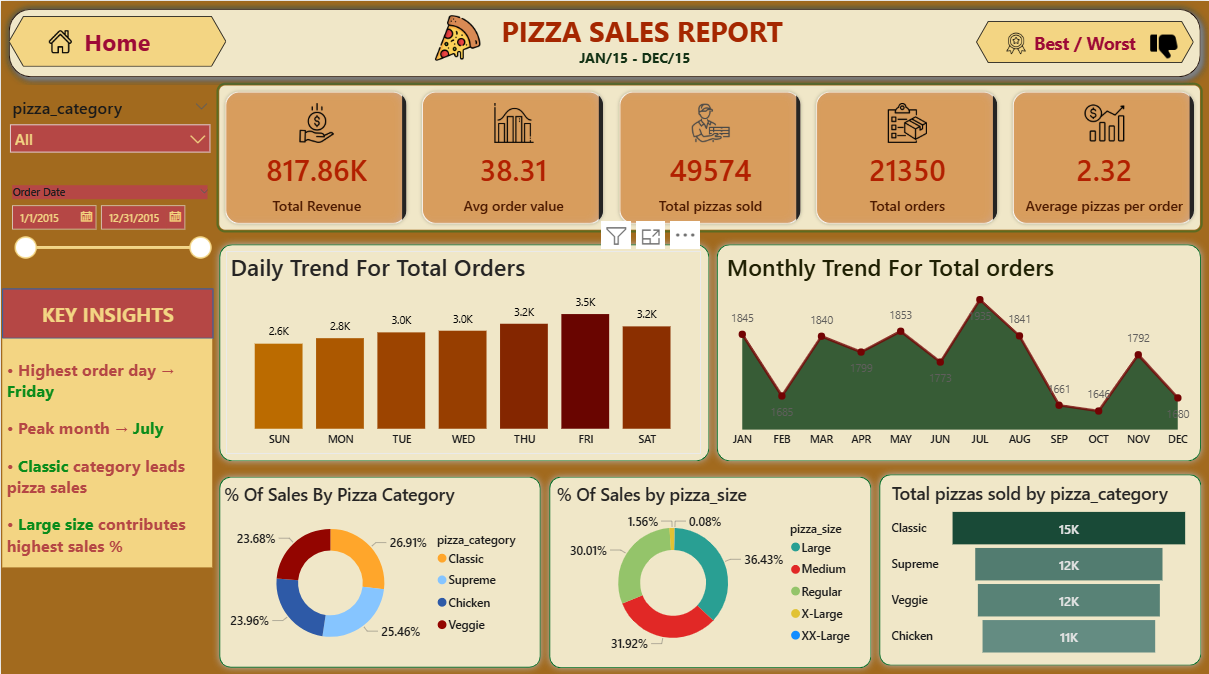

What the dashboard file says about the page in this screenshot:
{"tool":"powerbi","page":{"name":"Home","canvas":[1380,771],"ordinal":0},"visuals":[{"type":"cardVisual","fields":{"Data":["pizza_sales pizza_sales.Total Revenue","pizza_sales pizza_sales.Avg order value","pizza_sales pizza_sales.Total pizzas sold","pizza_sales pizza_sales.Total orders","pizza_sales pizza_sales.Average pizzas per order"]},"box":[241.3,88,1138.7,181.3],"z":0},{"type":"shape","box":[0,0,1380,96],"z":1000},{"type":"image","box":[487.1,11.4,70,61.4],"z":2000},{"type":"textbox","box":[655.7,48.6,154.3,38.6],"z":3000},{"type":"textbox","box":[557.2,7.7,351.3,68.2],"z":4000},{"type":"shape","box":[241.3,269.3,576,264],"z":5000},{"type":"shape","box":[241.3,536,383.3,234.3],"z":6000,"group":"g1"},{"type":"shape","box":[618.7,536,384,234.7],"z":6000},{"type":"columnChart","title":"Daily Trend For Total Orders","fields":{"Category":["pizza_sales pizza_sales.Order day"],"Y":["pizza_sales pizza_sales.Total orders"]},"box":[257.3,285.3,542.7,233.3],"z":7000},{"type":"shape","box":[810.7,269.3,569.3,264],"z":8000},{"type":"group","id":"g1","title":"Group 2","box":[241.3,536,384,234.7],"z":9000},{"type":"areaChart","title":"Monthly Trend For Total orders","fields":{"Category":["pizza_sales pizza_sales.Order Month"],"Y":["pizza_sales pizza_sales.Total orders"]},"box":[824,285.3,544,233.3],"z":10000},{"type":"shape","box":[996,533.3,384,234.7],"z":11000},{"type":"donutChart","title":"% Of Sales By Pizza Category","fields":{"Category":["pizza_sales pizza_sales.pizza_category"],"Y":["pizza_sales pizza_sales.Total Revenue"]},"box":[250.7,550.7,365.3,204],"z":12000},{"type":"donutChart","title":"% Of Sales by pizza_size","fields":{"Category":["pizza_sales pizza_sales.pizza_size"],"Y":["pizza_sales pizza_sales.Total orders"]},"box":[630.7,549.3,358.7,204],"z":13000},{"type":"funnel","fields":{"Category":["pizza_sales pizza_sales.pizza_category"],"Y":["pizza_sales pizza_sales.Total pizzas sold"]},"box":[1013.3,548,350.7,205.3],"z":14000},{"type":"slicer","fields":{"Values":["pizza_sales pizza_sales.order_date"]},"box":[0,205.3,249.3,105.3],"z":15000},{"type":"slicer","fields":{"Values":["pizza_sales pizza_sales.pizza_category"]},"box":[0,104,249.3,74.7],"z":16000},{"type":"pageNavigator","box":[8,17.3,249.3,58.7],"z":17000},{"type":"pageNavigator","box":[1114.7,22.7,249.3,48],"z":18000},{"type":"image","box":[32,28,72,36],"z":19000},{"type":"image","box":[1142.7,14.7,34.7,68],"z":20000},{"type":"image","box":[1308,29.3,41.3,44],"z":21000},{"type":"shape","box":[1.3,328,241.3,57.3],"z":22000},{"type":"textbox","box":[1.3,385.3,240,261.3],"z":23000}]}

Visuals, with their boxes in screenshot pixels (x1, y1, x2, y2), scaled from the page's 1380x771 canvas onto the 1209x674 screenshot:
cardVisual - pizza_sales pizza_sales.Total Revenue x pizza_sales pizza_sales.Avg order value: <bbox>211, 77, 1208, 235</bbox>
shape: <bbox>0, 0, 1208, 84</bbox>
image: <bbox>427, 10, 488, 64</bbox>
textbox: <bbox>574, 42, 710, 76</bbox>
textbox: <bbox>488, 7, 796, 66</bbox>
shape: <bbox>211, 235, 716, 466</bbox>
shape: <bbox>211, 469, 547, 673</bbox>
shape: <bbox>542, 469, 878, 673</bbox>
"Daily Trend For Total Orders" columnChart: <bbox>225, 249, 701, 453</bbox>
shape: <bbox>710, 235, 1208, 466</bbox>
"Group 2" group: <bbox>211, 469, 548, 673</bbox>
"Monthly Trend For Total orders" areaChart: <bbox>722, 249, 1198, 453</bbox>
shape: <bbox>873, 466, 1208, 671</bbox>
"% Of Sales By Pizza Category" donutChart: <bbox>220, 481, 540, 660</bbox>
"% Of Sales by pizza_size" donutChart: <bbox>553, 480, 867, 659</bbox>
funnel - pizza_sales pizza_sales.pizza_category x pizza_sales pizza_sales.Total pizzas sold: <bbox>888, 479, 1195, 659</bbox>
slicer - pizza_sales pizza_sales.order_date: <bbox>0, 179, 218, 272</bbox>
slicer - pizza_sales pizza_sales.pizza_category: <bbox>0, 91, 218, 156</bbox>
pageNavigator: <bbox>7, 15, 225, 66</bbox>
pageNavigator: <bbox>977, 20, 1195, 62</bbox>
image: <bbox>28, 24, 91, 56</bbox>
image: <bbox>1001, 13, 1032, 72</bbox>
image: <bbox>1146, 26, 1182, 64</bbox>
shape: <bbox>1, 287, 213, 337</bbox>
textbox: <bbox>1, 337, 211, 565</bbox>
